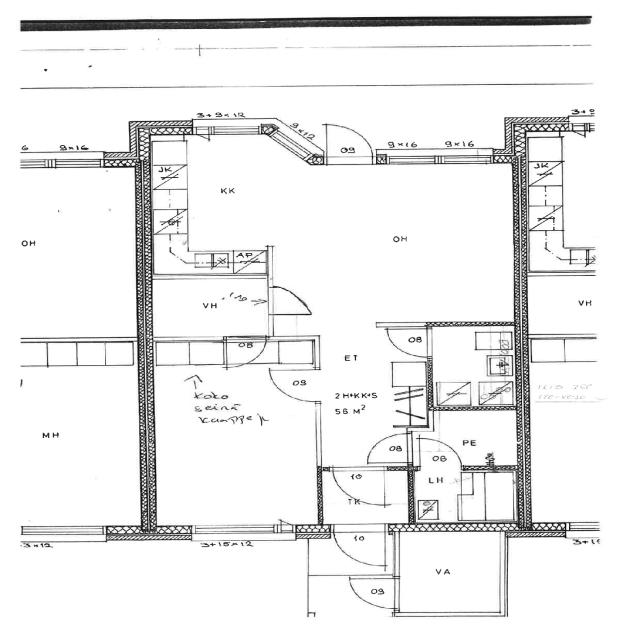door: (328, 521, 391, 572), (317, 120, 375, 163), (336, 466, 393, 507), (344, 573, 402, 610), (380, 322, 434, 361), (361, 429, 413, 469), (266, 364, 317, 402), (263, 283, 313, 318), (414, 436, 462, 471), (222, 334, 268, 368), (192, 125, 216, 144)
window: (14, 521, 112, 546), (186, 523, 287, 547), (380, 149, 496, 169), (48, 156, 106, 174), (204, 122, 261, 140)
zone: (307, 160, 520, 322), (148, 340, 318, 532), (0, 341, 146, 533), (0, 164, 144, 347), (152, 134, 306, 276), (393, 530, 505, 615), (144, 274, 272, 342), (427, 323, 519, 407), (410, 406, 522, 470), (412, 468, 522, 530), (331, 522, 388, 568), (316, 120, 376, 163)
